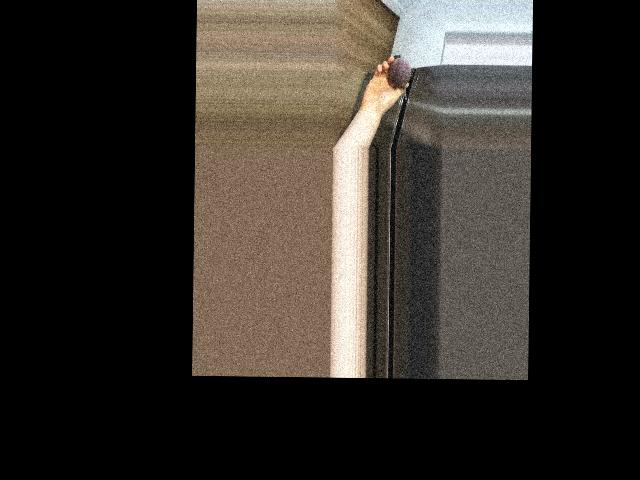beet: (389, 54, 410, 99)
